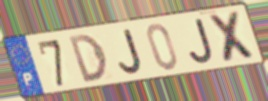0: (145, 22, 180, 73)
7: (35, 38, 66, 88)
D: (66, 32, 110, 85)
J: (188, 16, 216, 65), (117, 27, 145, 76)
X: (206, 10, 260, 65)
